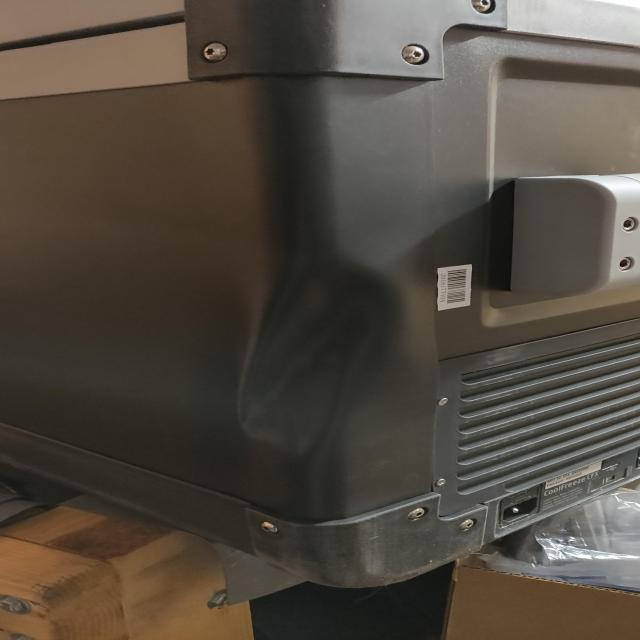dents: (218, 238, 398, 456)
